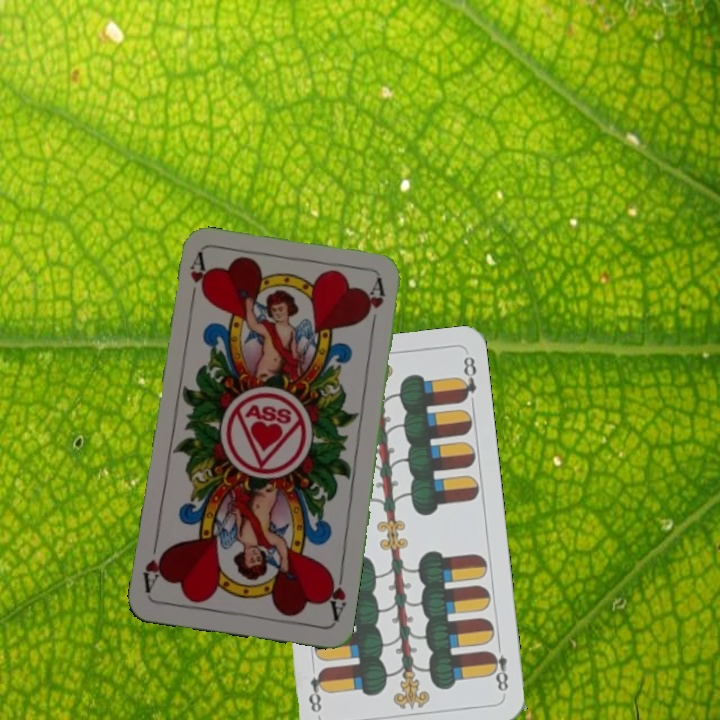E8: (485, 638, 511, 694)
HA: (322, 565, 349, 624), (185, 250, 211, 309)
